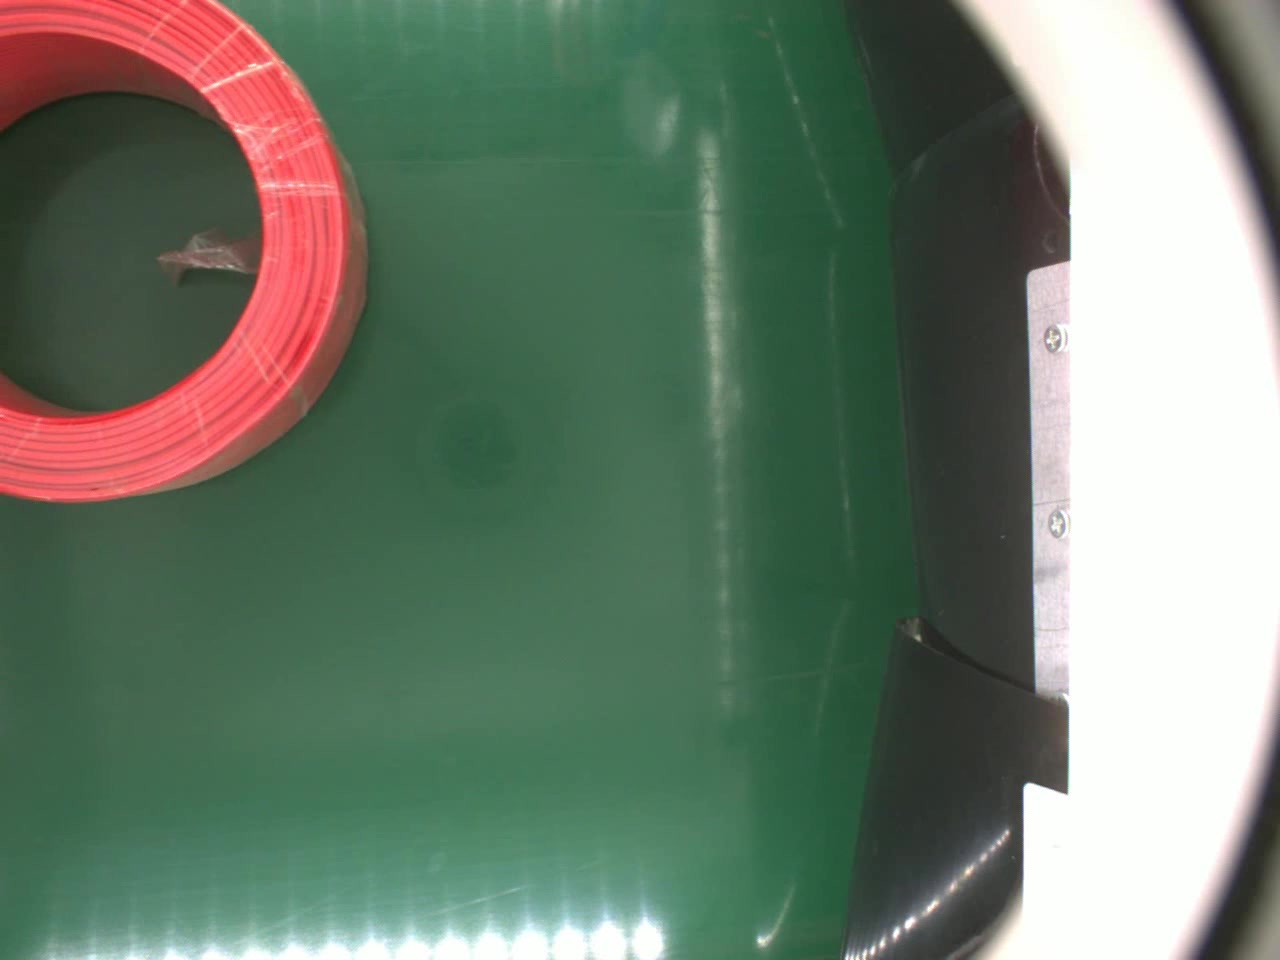red: (0, 0, 369, 497)
